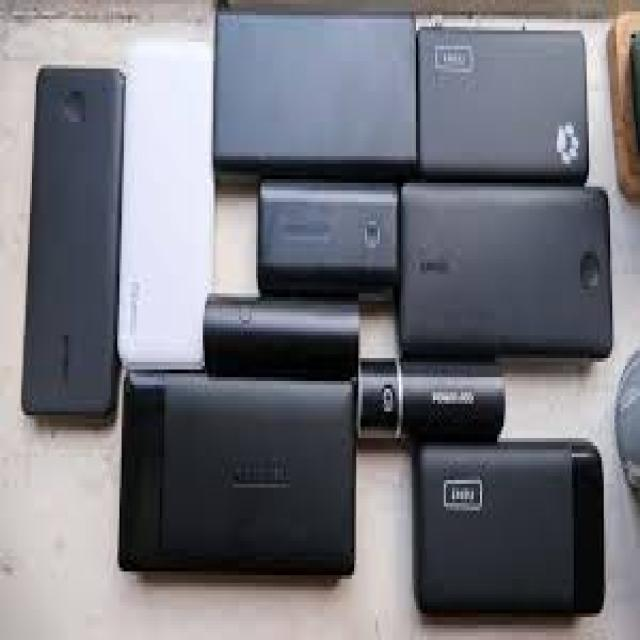power_bank: (118, 369, 357, 583), (401, 176, 614, 364), (21, 60, 126, 424), (411, 444, 606, 621), (218, 20, 418, 180), (121, 35, 215, 369), (419, 25, 590, 185), (260, 182, 399, 295), (364, 356, 508, 451), (206, 298, 364, 379)
